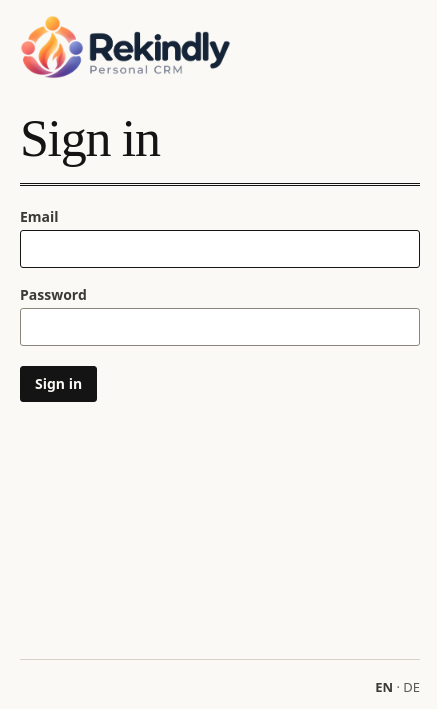
it: auth guards › shows a readable error for wrong credentials
Type "erika@example.com" into the field labelled "Email" at (220, 249), box [20,230,420,268]
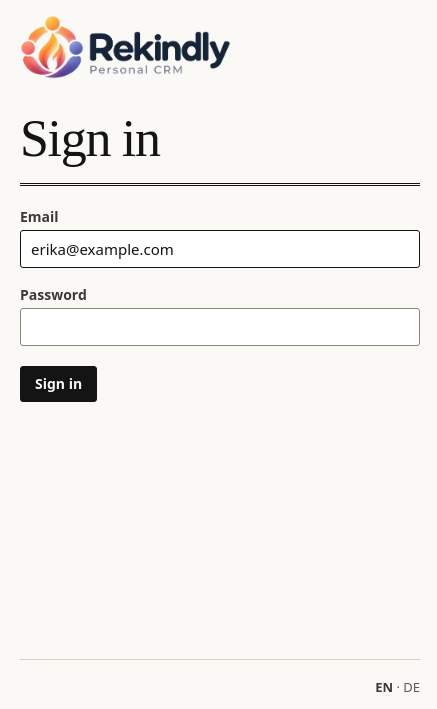
Type "wrong" into the password field labelled "Password" at (220, 327), box [20,308,420,346]
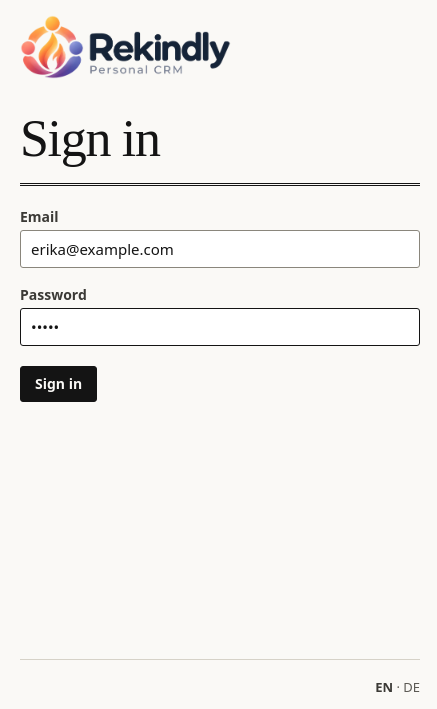
Click the button "Sign in" at (59, 384), box [20,366,97,402]
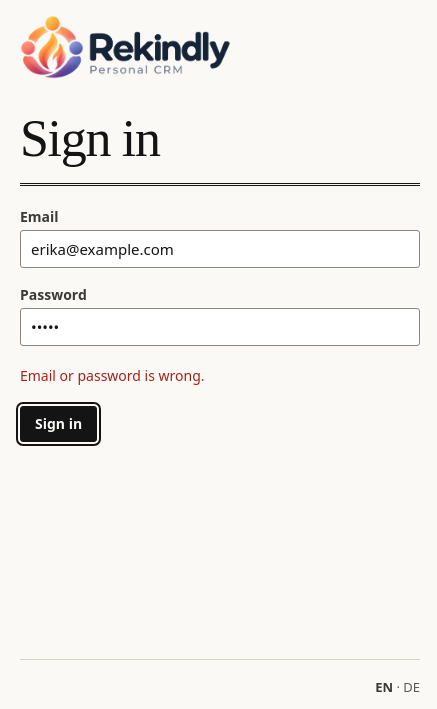
expect the message reads "Email or password is wrong.": met, box [20,366,204,385]
